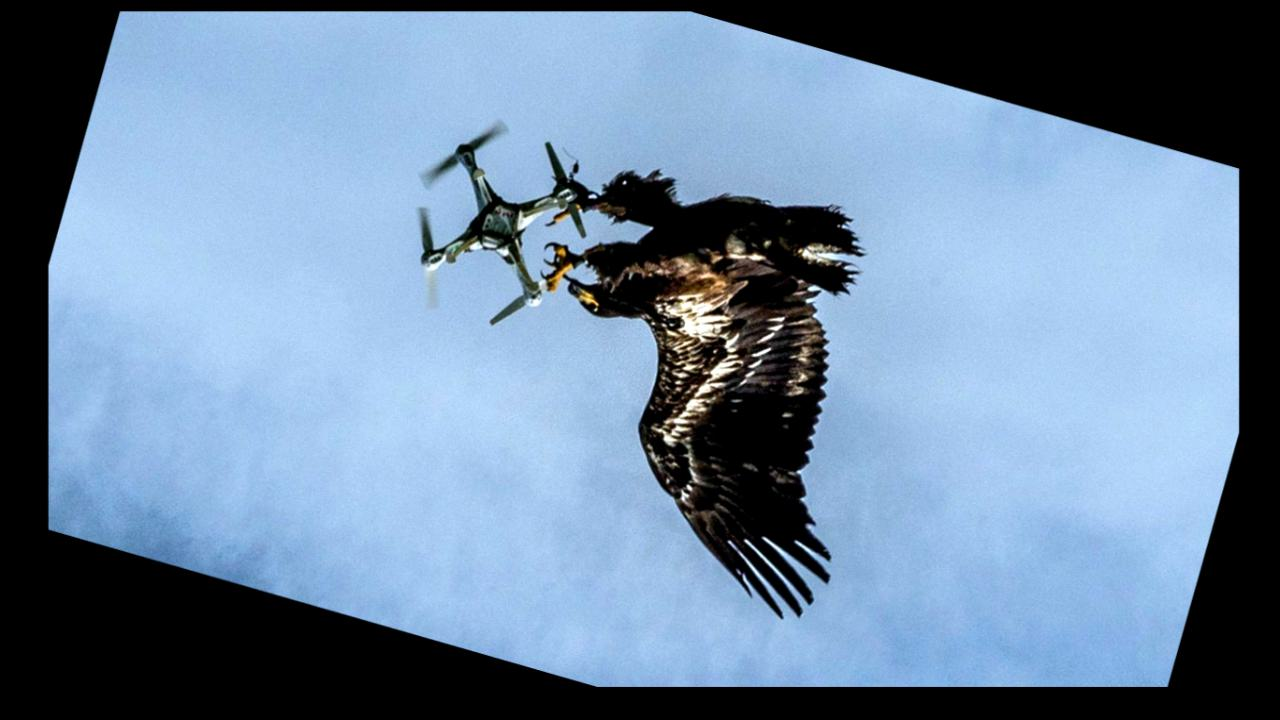Bird: (555, 159, 869, 608)
UAV: (422, 120, 584, 329)
